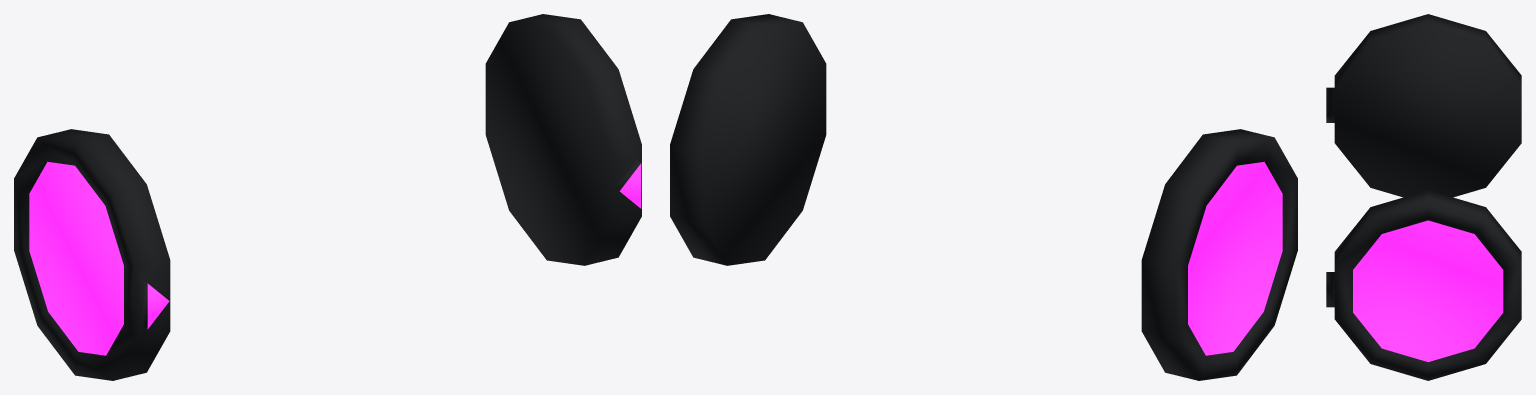
The model's file is Padlock_base.glb.
3 renders of one model, left to right at view 1: azimuth 30°, elevation 25°; view 2: azimuth 150°, elevation 25°; view 3: azimuth 270°, elevation 25°, orthographic. The views are drawn at different scales.
Visible parts, largest first — view 1: PiratePadlock_01_base; view 2: PiratePadlock_01_base; view 3: PiratePadlock_01_base.
Part boxes in pixels (x1=…): PiratePadlock_01_base: x1=14, y1=14, x2=641, y2=380; PiratePadlock_01_base: x1=670, y1=14, x2=1297, y2=380; PiratePadlock_01_base: x1=1326, y1=14, x2=1521, y2=380.
Size of what is drawn, in the model's own units: 0.6236 by 0.2743 by 0.2726.
